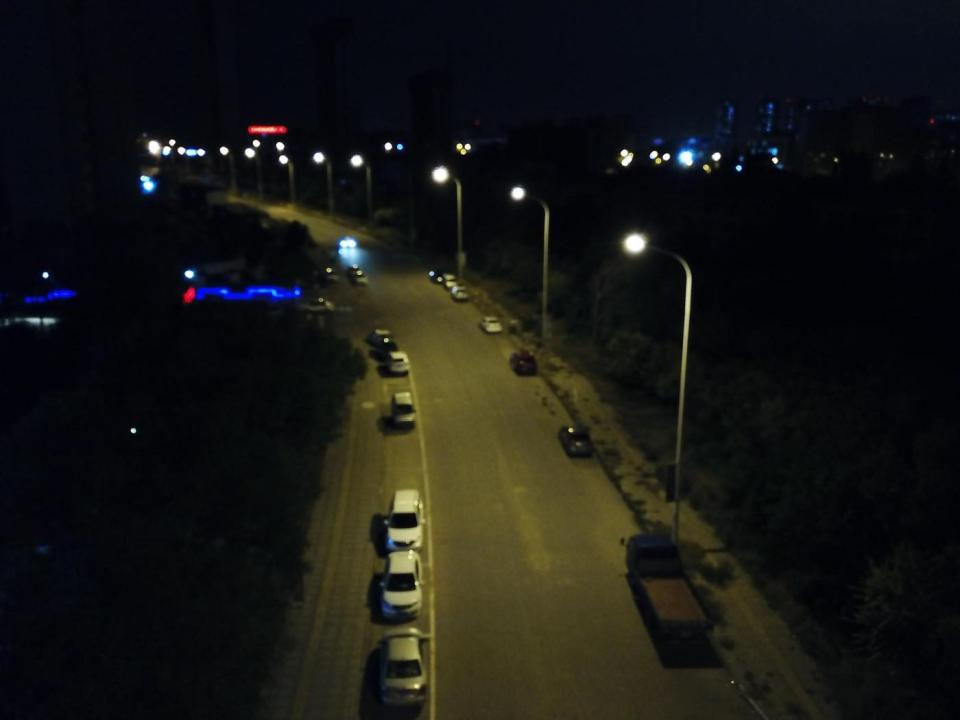car: (377, 628, 431, 706), (378, 550, 425, 618), (559, 426, 592, 455), (392, 392, 416, 426), (510, 349, 538, 374), (388, 350, 409, 373), (301, 298, 335, 312), (346, 265, 368, 285), (370, 328, 394, 345), (479, 316, 502, 332), (381, 342, 397, 359), (452, 284, 467, 300), (338, 236, 357, 248), (442, 274, 456, 288), (324, 267, 337, 280)
truck: (626, 533, 715, 642)
van: (383, 489, 426, 552)
